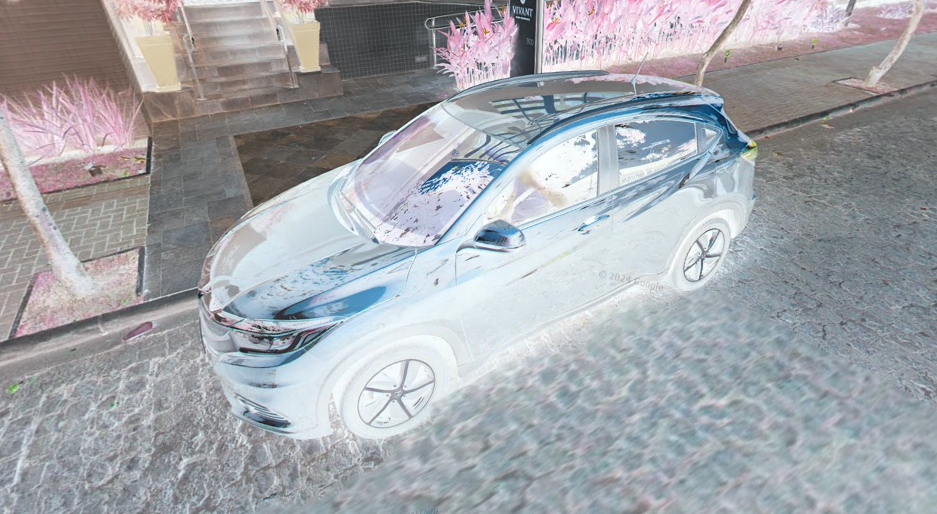car: (193, 50, 761, 440)
